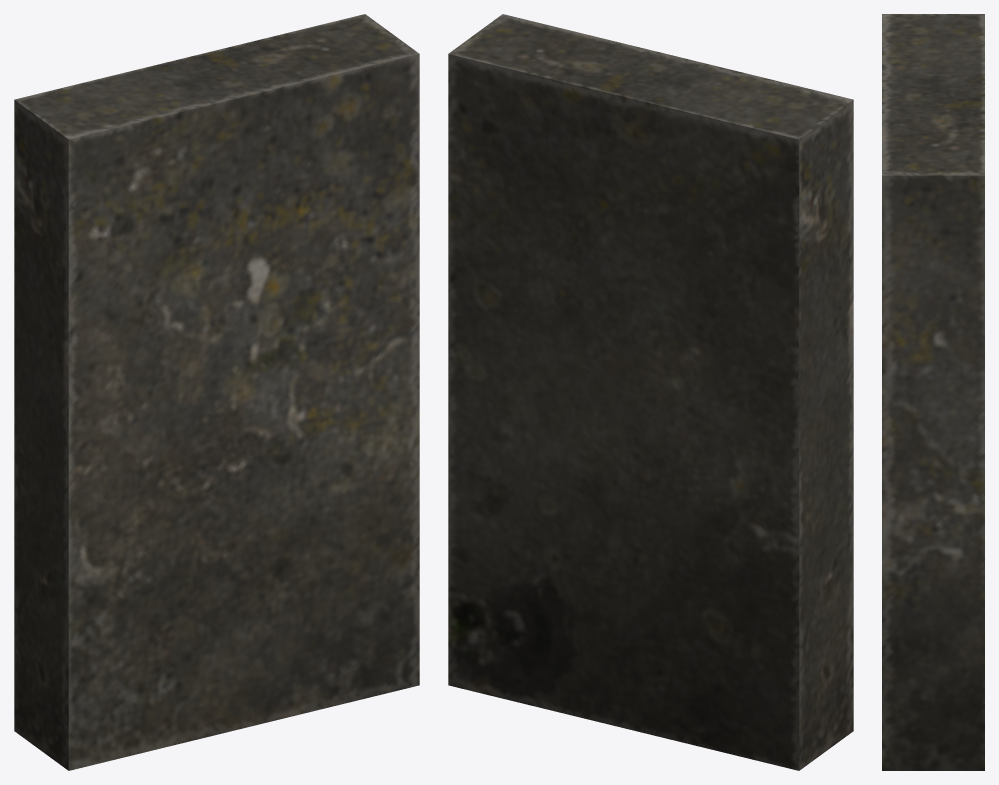
The model's file is Headstone_2.fbx.
3 renders of one model, left to right at view 1: azimuth 30°, elevation 25°; view 2: azimuth 150°, elevation 25°; view 3: azimuth 270°, elevation 25°, orthographic. The views are drawn at different scales.
Parts seen in each view (by area): view 1: Headstone_2; view 2: Headstone_2; view 3: Headstone_2.
Boxes of the visible parts, left/top/right/bottom form: Headstone_2: left=14, top=14, right=419, bottom=770; Headstone_2: left=448, top=14, right=853, bottom=770; Headstone_2: left=882, top=14, right=984, bottom=770.
Bounding box in the file's own units: 43.98 × 75.6 × 11.84.
